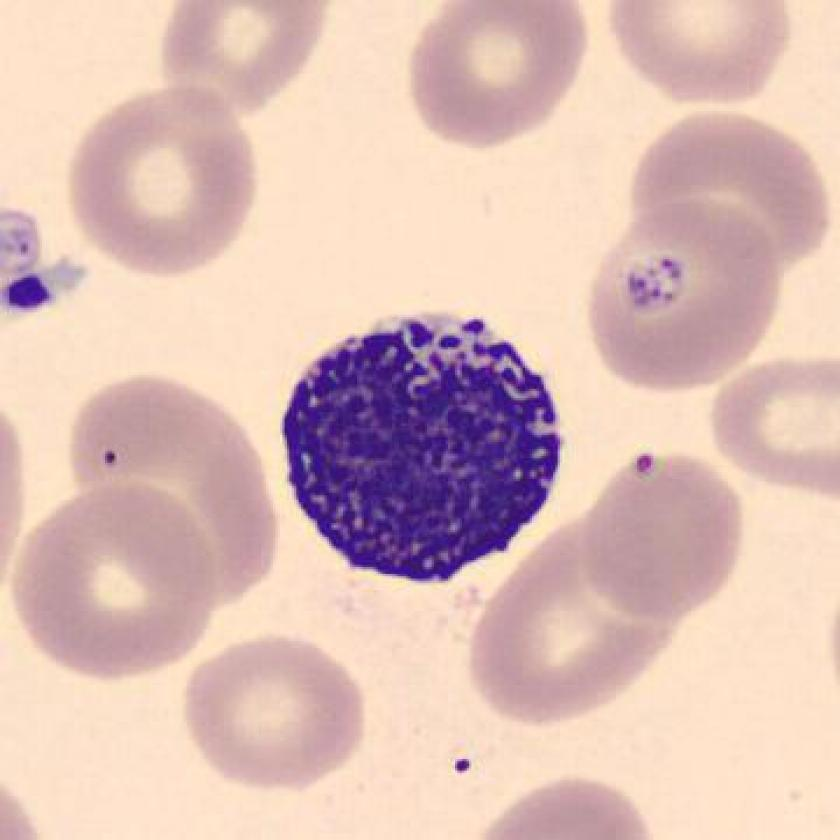basophil: (274, 279, 566, 603)
